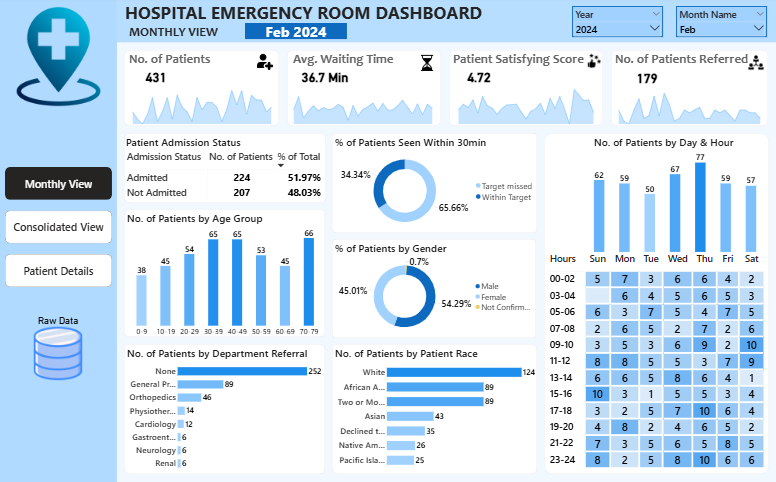

The dashboard page shown, as its layout file describes it:
{"tool":"powerbi","page":{"name":"Monthly View","canvas":[4350,2700],"ordinal":0},"visuals":[{"type":"shape","box":[3422.6,280.1,879.5,425.7],"z":0},{"type":"shape","box":[694.6,745,1131.5,392.1],"z":1000},{"type":"shape","box":[0,0,655.4,2700],"z":2000},{"type":"shape","box":[658.1,0,3695,237.3],"z":3000},{"type":"textbox","box":[695.9,0,2049.8,172.6],"z":4000},{"type":"textbox","box":[717,128.8,554.6,100.8],"z":5000},{"type":"shape","box":[694.6,280.1,868.3,425.7],"z":6000},{"type":"slicer","fields":{"Values":["Date Table.Month Name"]},"box":[3786.7,33.6,509.8,173.7],"z":7000},{"type":"card","fields":{"Values":["Hospital ER_Data.No. of Patients"]},"box":[733.8,364.1,280.1,123.2],"z":8000},{"type":"textbox","box":[717.4,280.5,517.8,107.9],"z":9000},{"type":"areaChart","fields":{"Category":["Date Table.Date.Variation.Date Hierarchy.Day"],"Y":["Hospital ER_Data.No. of Patients"]},"box":[700.2,492.9,862.7,207.3],"z":10000},{"type":"shape","box":[1607.7,280.1,862.7,425.7],"z":11000},{"type":"card","fields":{"Values":["Hospital ER_Data.Avg Waiting Time"]},"box":[1674.9,364.1,291.3,123.2],"z":12000},{"type":"textbox","box":[1635.7,280.1,610.6,106.4],"z":13000},{"type":"areaChart","fields":{"Category":["Date Table.Date.Variation.Date Hierarchy.Day"],"Y":["Avg(Hospital ER_Data.Patient Waittime)"]},"box":[1602.1,492.9,862.7,207.3],"z":14000},{"type":"shape","box":[2515.1,280.1,862.7,425.7],"z":15000},{"type":"textbox","box":[2532,280.1,817.8,106.4],"z":16000},{"type":"card","fields":{"Values":["Avg(Hospital ER_Data.Patient Satisfaction Score)"]},"box":[2560,358.5,246.5,134.4],"z":17000},{"type":"areaChart","fields":{"Category":["Date Table.Date.Variation.Date Hierarchy.Day"],"Y":["Avg(Hospital ER_Data.Patient Satisfaction Score)"]},"box":[2526.3,487.3,840.2,212.9],"z":18000},{"type":"textbox","box":[3439.4,280.1,789.8,106.4],"z":19000},{"type":"card","fields":{"Values":["Hospital ER_Data.N. of Patients Referred"]},"box":[3461.8,364.1,324.9,128.8],"z":20000},{"type":"areaChart","fields":{"Category":["Date Table.Date.Variation.Date Hierarchy.Day"],"Y":["Hospital ER_Data.N. of Patients Referred"]},"box":[3422.6,492.9,879.5,207.3],"z":21000},{"type":"pivotTable","title":"Patient Admission Status","fields":{"Rows":["Hospital ER_Data.Admission Status"],"Values":["Hospital ER_Data.No. of Patients1","Hospital ER_Data.No. of Patients"]},"box":[700.2,756.2,1109.1,364.1],"z":22000},{"type":"shape","box":[694.6,1170.7,1125.9,717],"z":23000},{"type":"columnChart","fields":{"Category":["Hospital ER_Data.Age Group"],"Y":["Hospital ER_Data.No. of Patients"]},"box":[705.8,1182,1114.7,711.4],"z":24000},{"type":"shape","box":[694.6,1927,1125.9,728.2],"z":25000},{"type":"barChart","fields":{"Y":["Hospital ER_Data.No. of Patients"],"Category":["Hospital ER_Data.Department Referral"]},"box":[705.8,1938.2,1103.5,717],"z":26000},{"type":"shape","box":[1859.8,745,1148.3,560.2],"z":27000},{"type":"donutChart","title":"% of Patients Seen Within 30min","fields":{"Category":["Hospital ER_Data.Waittime Status"],"Y":["Hospital ER_Data.No. of Patients"]},"box":[1871,756.2,1125.9,549],"z":28000},{"type":"shape","box":[1859.8,1338.8,1142.7,554.6],"z":29000},{"type":"donutChart","title":"% of Patients by Gender","fields":{"Y":["Hospital ER_Data.No. of Patients"],"Category":["Hospital ER_Data.Patient Gender"]},"box":[1871,1350,1125.9,543.4],"z":30000},{"type":"shape","box":[1859.8,1927,1148.3,728.2],"z":31000},{"type":"barChart","fields":{"Y":["Hospital ER_Data.No. of Patients"],"Category":["Hospital ER_Data.Patient Race"]},"box":[1871,1938.2,1131.5,705.8],"z":32000},{"type":"shape","box":[3047.3,745,1260.4,1910.2],"z":33000},{"type":"pivotTable","fields":{"Rows":["Hospital ER_Data.Waittime Interval"],"Columns":["Date Table.Day Name"],"Values":["Hospital ER_Data.No. of Patients"]},"box":[3069.7,1406,1215.6,1249.2],"z":34000},{"type":"columnChart","title":"No. of Patients by Day & Hour","fields":{"Category":["Date Table.Day Name"],"Y":["Hospital ER_Data.No. of Patients"]},"box":[3321.8,756.2,924.3,661],"z":35000},{"type":"card","fields":{"Values":["Min(Date Table.Month & Year)"]},"box":[1372.4,128.8,571.4,90],"z":36000},{"type":"image","box":[1422.8,296.9,123.2,100],"z":37000},{"type":"image","box":[2330.3,302.5,123.2,100],"z":38000},{"type":"image","box":[3282.6,285.7,95.2,106.4],"z":39000},{"type":"image","box":[4184.4,302.5,100.8,95.2],"z":40000},{"type":"image","box":[44.8,33.6,565.8,565.8],"z":41000},{"type":"slicer","fields":{"Values":["Date Table.Year"]},"box":[3204.1,33.6,509.8,173.7],"z":42000},{"type":"pageNavigator","box":[28,935.5,599.4,672.2],"z":43000},{"type":"image","title":"Raw Data","box":[162.4,1764.5,324.9,369.7],"z":44000}]}

Visuals, with their boxes in screenshot pixels (x1, y1, x2, y2), scaled from the page's 4350x2700 canvas onto the 776x482 screenshot:
shape: [611,50,767,126]
shape: [124,133,326,203]
shape: [0,0,117,481]
shape: [117,0,775,42]
textbox: [124,0,490,31]
textbox: [128,23,227,41]
shape: [124,50,279,126]
slicer - Date Table.Month Name: [676,6,766,37]
card - Hospital ER_Data.No. of Patients: [131,65,181,87]
textbox: [128,50,220,69]
areaChart - Date Table.Date.Variation.Date Hierarchy.Day x Hospital ER_Data.No. of Patients: [125,88,279,125]
shape: [287,50,441,126]
card - Hospital ER_Data.Avg Waiting Time: [299,65,351,87]
textbox: [292,50,401,69]
areaChart - Date Table.Date.Variation.Date Hierarchy.Day x Avg(Hospital ER_Data.Patient Waittime): [286,88,440,125]
shape: [449,50,603,126]
textbox: [452,50,598,69]
card - Avg(Hospital ER_Data.Patient Satisfaction Score): [457,64,501,88]
areaChart - Date Table.Date.Variation.Date Hierarchy.Day x Avg(Hospital ER_Data.Patient Satisfaction Score): [451,87,601,125]
textbox: [614,50,754,69]
card - Hospital ER_Data.N. of Patients Referred: [618,65,676,88]
areaChart - Date Table.Date.Variation.Date Hierarchy.Day x Hospital ER_Data.N. of Patients Referred: [611,88,767,125]
"Patient Admission Status" pivotTable: [125,135,323,200]
shape: [124,209,325,337]
columnChart - Hospital ER_Data.Age Group x Hospital ER_Data.No. of Patients: [126,211,325,338]
shape: [124,344,325,474]
barChart - Hospital ER_Data.No. of Patients x Hospital ER_Data.Department Referral: [126,346,323,474]
shape: [332,133,537,233]
"% of Patients Seen Within 30min" donutChart: [334,135,535,233]
shape: [332,239,536,338]
"% of Patients by Gender" donutChart: [334,241,535,338]
shape: [332,344,537,474]
barChart - Hospital ER_Data.No. of Patients x Hospital ER_Data.Patient Race: [334,346,536,472]
shape: [544,133,768,474]
pivotTable - Hospital ER_Data.Waittime Interval x Date Table.Day Name: [548,251,764,474]
"No. of Patients by Day & Hour" columnChart: [593,135,757,253]
card - Min(Date Table.Month & Year): [245,23,347,39]
image: [254,53,276,71]
image: [416,54,438,72]
image: [586,51,603,70]
image: [746,54,764,71]
image: [8,6,109,107]
slicer - Date Table.Year: [572,6,663,37]
pageNavigator: [5,167,112,287]
"Raw Data" image: [29,315,87,381]
